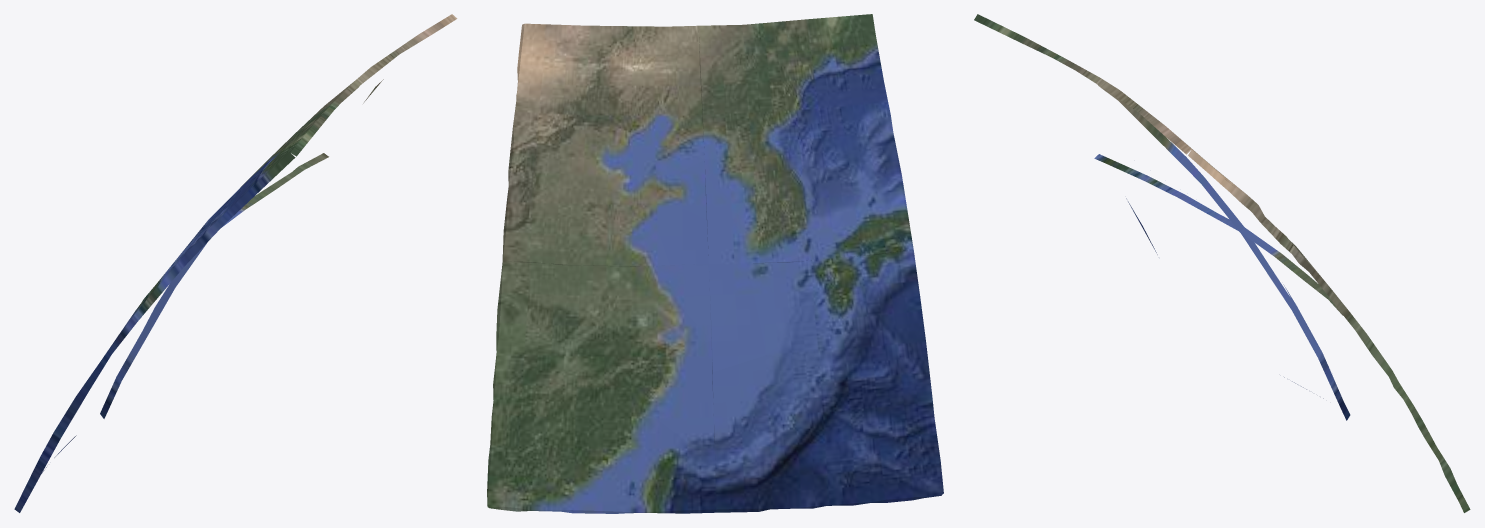
The picture shows the model from 3 angles, left to right: view 1: azimuth 30°, elevation 25°; view 2: azimuth 150°, elevation 25°; view 3: azimuth 270°, elevation 25°; orthographic projection. The views are drawn at different scales.
Bounding box in the file's own units: 2471651 × 2102778 × 2288938.
1 material, 1 textured.
